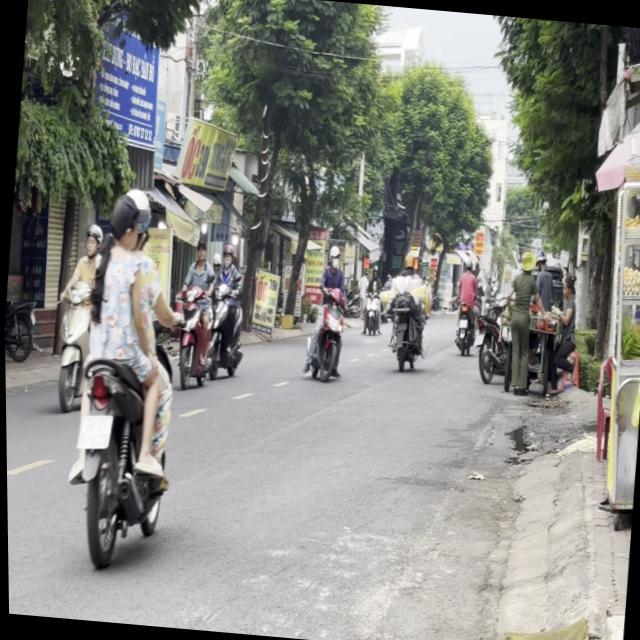helmet: (119, 184, 153, 250), (81, 220, 101, 256)
licenseplate: (52, 178, 194, 572), (43, 207, 106, 415), (168, 231, 221, 388)
motorcyclist: (104, 190, 141, 253), (191, 236, 206, 262)
nohelmet: (73, 411, 111, 450)
